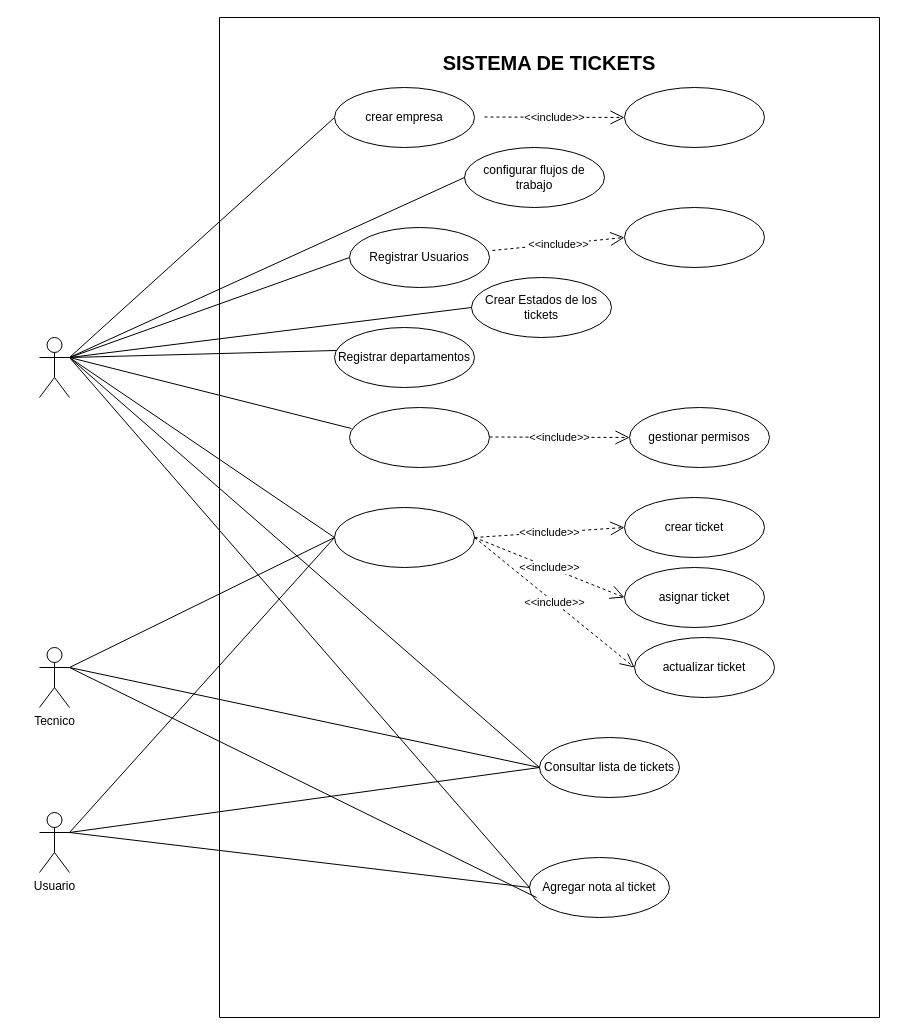
The diagram is 897 pixels wide and 1035 high, and some of its shapes have lost their labels. Here are the shapes that lost their labels. From the top down, the centre of each, then its label:
At [694,117]: "configurar parametros".
At [694,237]: "asignar departamento".
At [54,367]: "Administrador".
At [419,437]: "Gestionar roles".
At [404,537]: "Gestionar Tickets".
